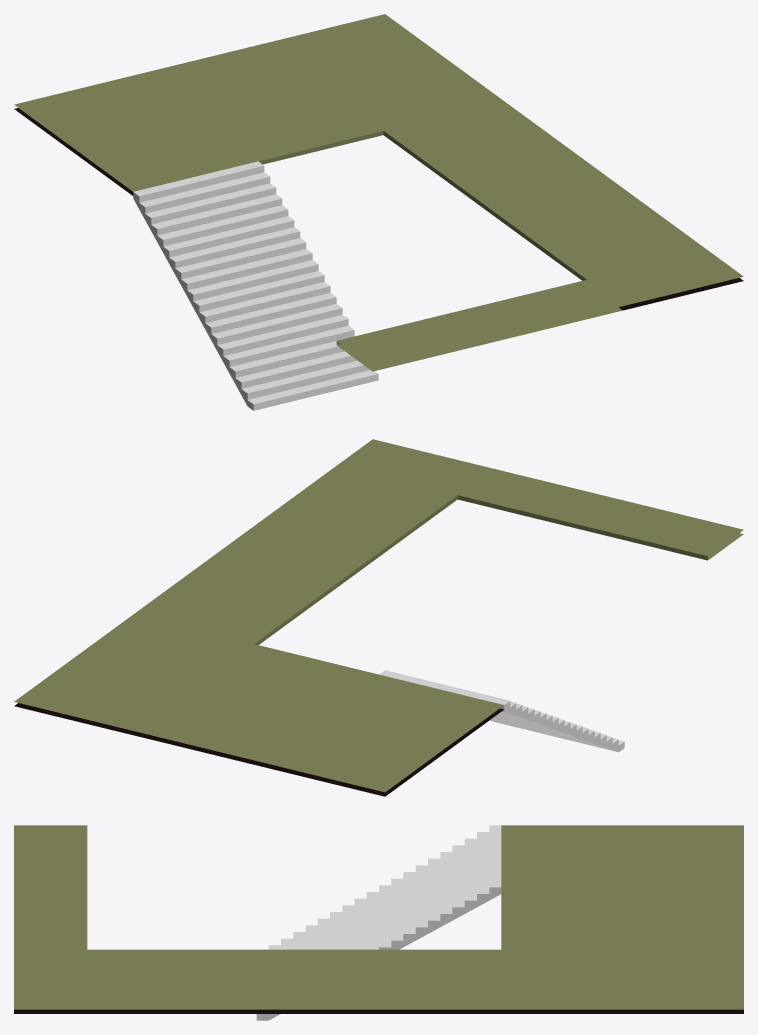
The model's file is Building001_Stairs_1.FBX.
3 renders of one model, top to bottom at view 1: azimuth 30°, elevation 25°; view 2: azimuth 150°, elevation 25°; view 3: azimuth 270°, elevation 25°, orthographic.
Parts seen in each view (by area): view 1: StairsBottom, Stairs; view 2: StairsBottom, Stairs; view 3: StairsBottom, Stairs.
Part boxes in pixels (x1,y1,x2,y2): StairsBottom: (14, 14, 743, 371); Stairs: (133, 161, 378, 410); StairsBottom: (14, 439, 743, 796); Stairs: (379, 670, 624, 752); StairsBottom: (14, 825, 743, 1013); Stairs: (256, 825, 501, 1020).
Size of the model in its own units: 350 by 118 by 587.
